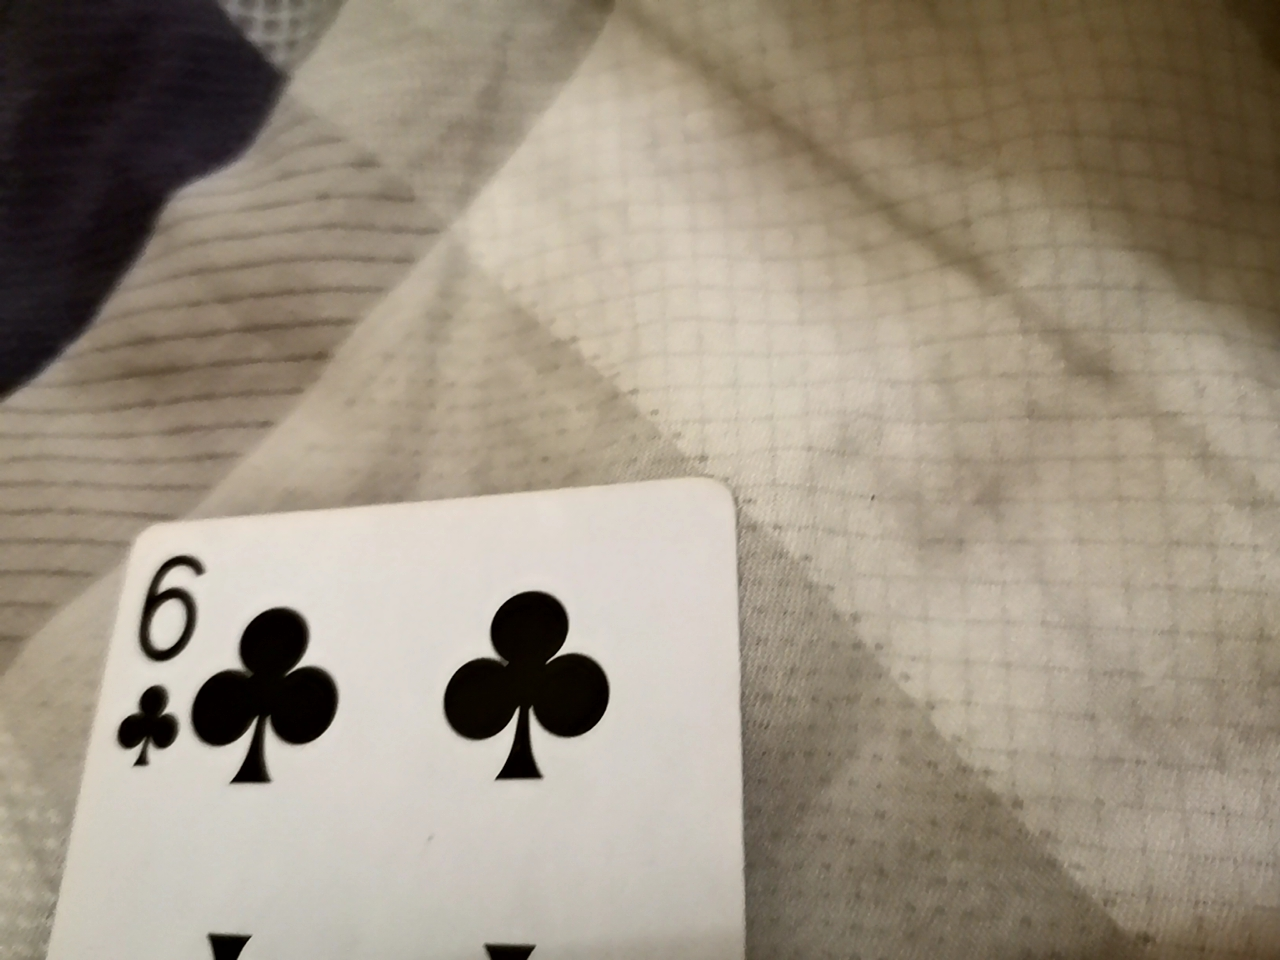mh 6: (23, 495, 717, 957)
